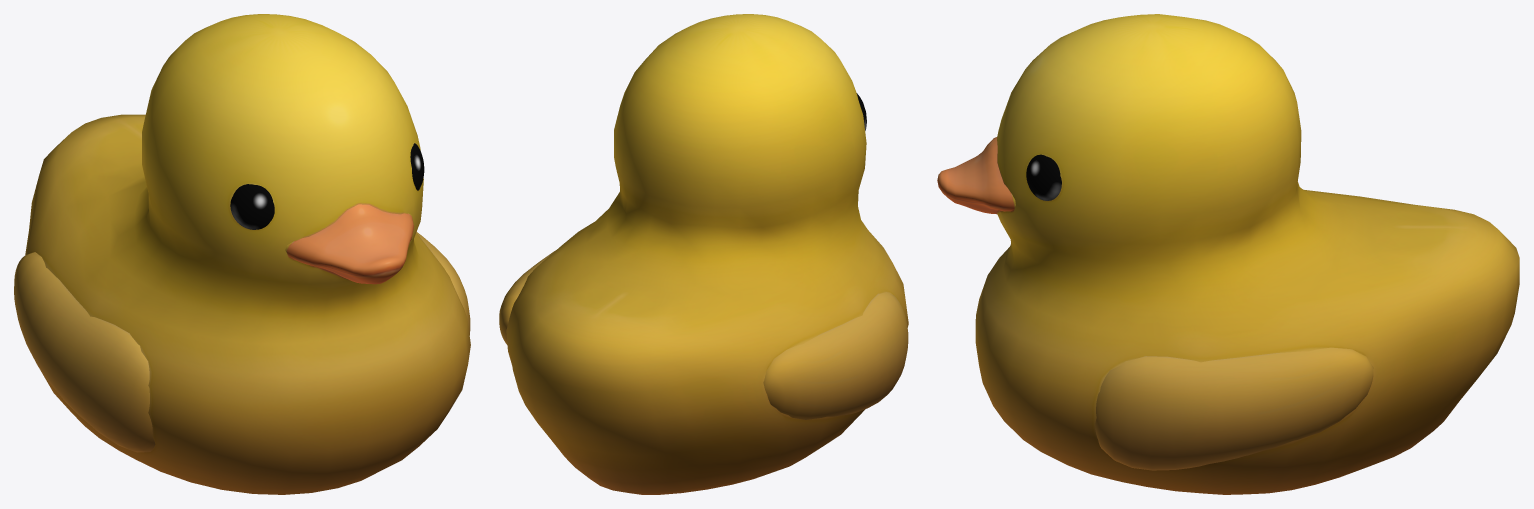
Rendered from toy_duck.glb.
3 renders of one model, left to right at view 1: azimuth 30°, elevation 25°; view 2: azimuth 150°, elevation 25°; view 3: azimuth 270°, elevation 25°, orthographic. The views are drawn at different scales.
Parts seen in each view (by area): view 1: Object_2; view 2: Object_2; view 3: Object_2.
Part boxes in pixels (bbox=[...]): Object_2: bbox=[14, 14, 470, 494]; Object_2: bbox=[499, 14, 908, 494]; Object_2: bbox=[937, 14, 1519, 494].
Size of the model in its own units: 67.41 by 75.79 by 90.33.
1 material, 1 textured.
